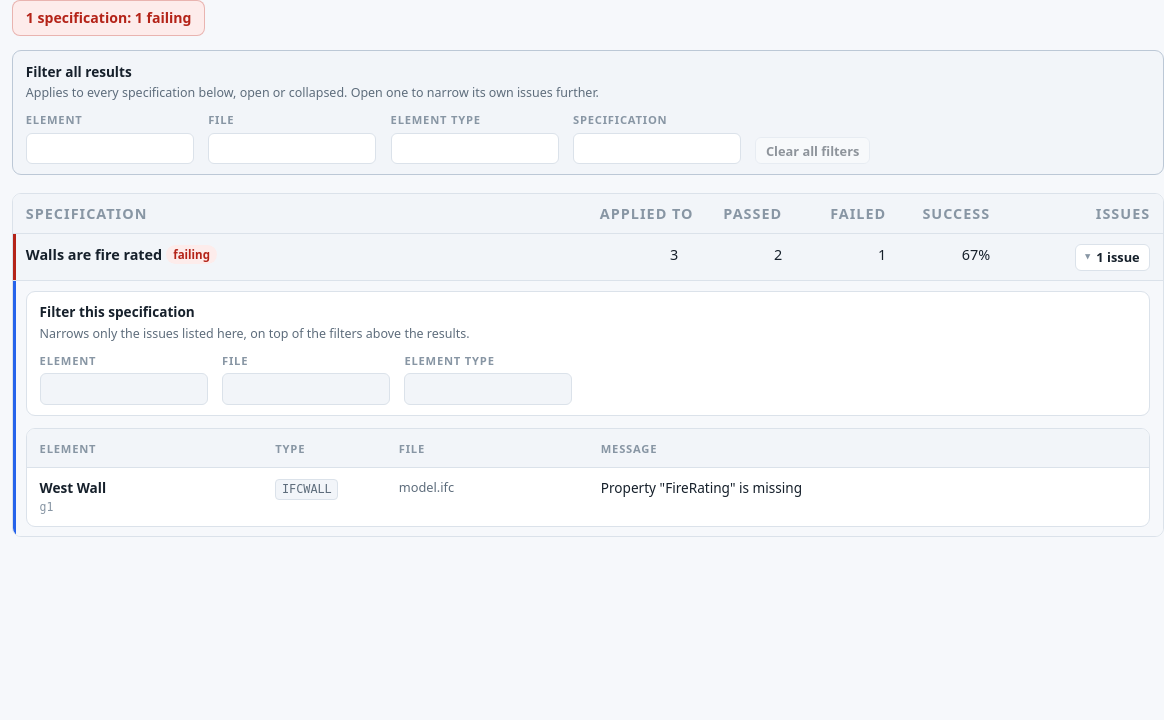
Test: CheckSummary › clears the per-specification filters as well, wherever they were typed
The width and height of the screenshot is (1164, 720).
Type "no-such-element" into the field named "Filter by element name or GlobalId". click: (124, 389)
box: [40,373,208,405]
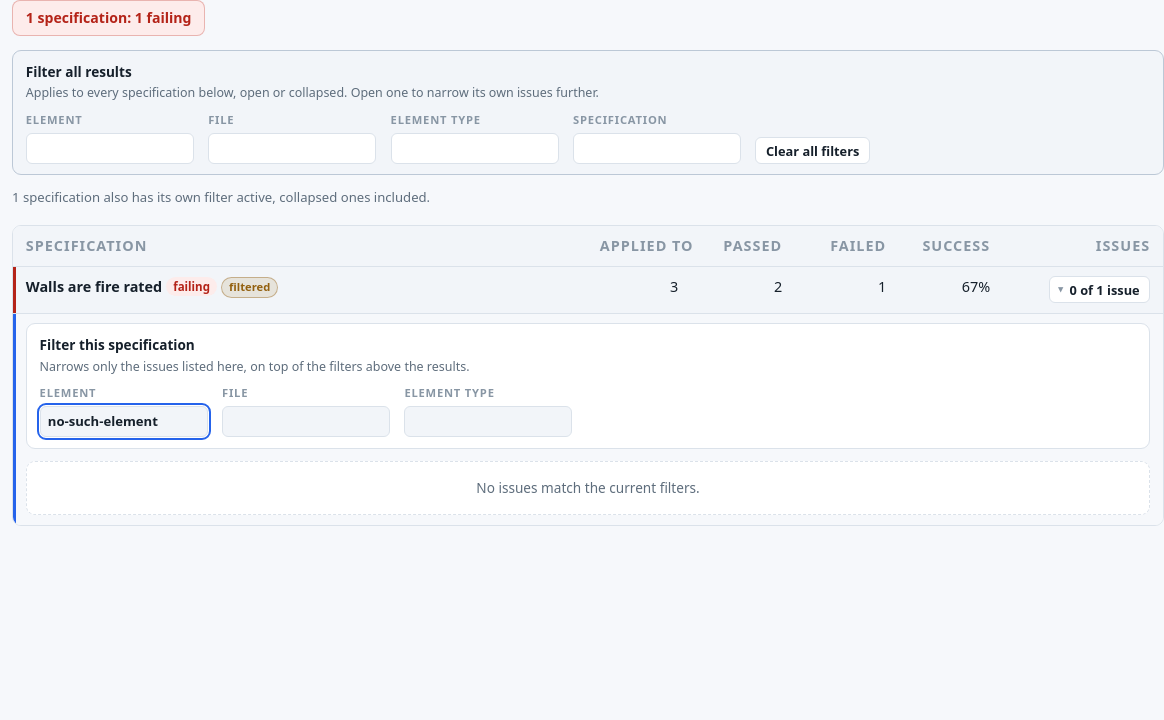
Now the text "filtered" is shown, box [221,278,278,298]
Click the button "Clear all filters". click: click(813, 151)
box: [755,137,870,164]
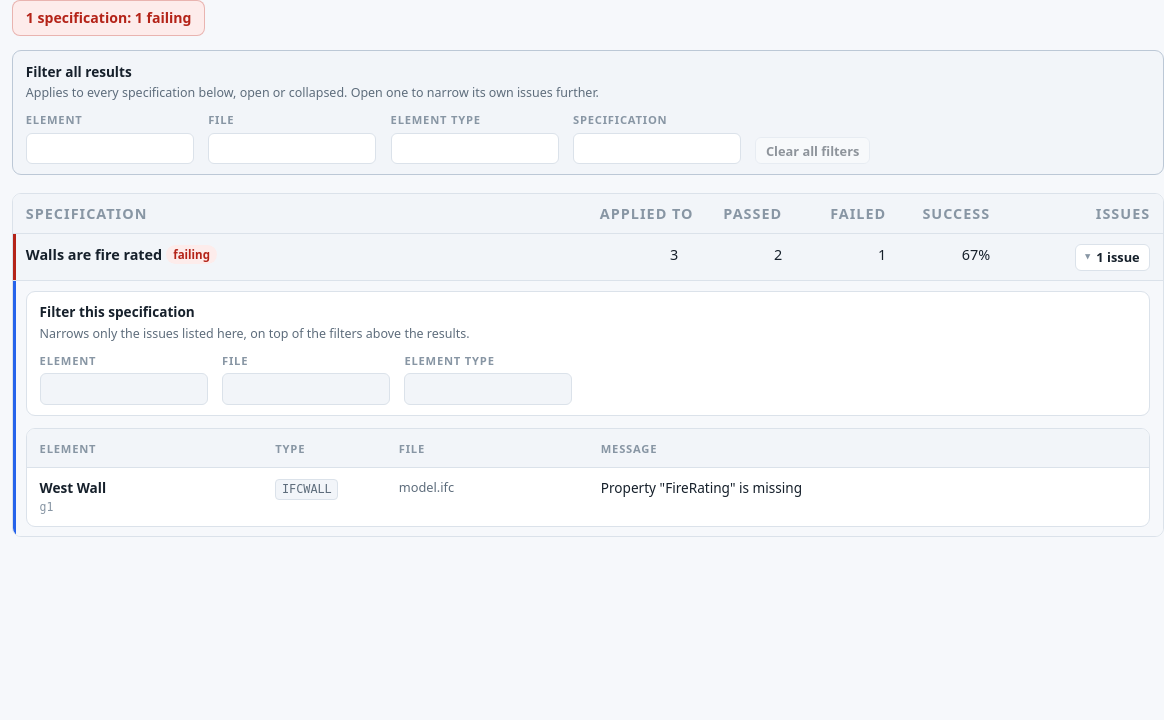
Now the text "filtered" is gone
Now the text "West Wall" is shown, box [40,478,106,498]
Now the field named "Filter by element name or GlobalId" is empty, box [40,373,208,405]
